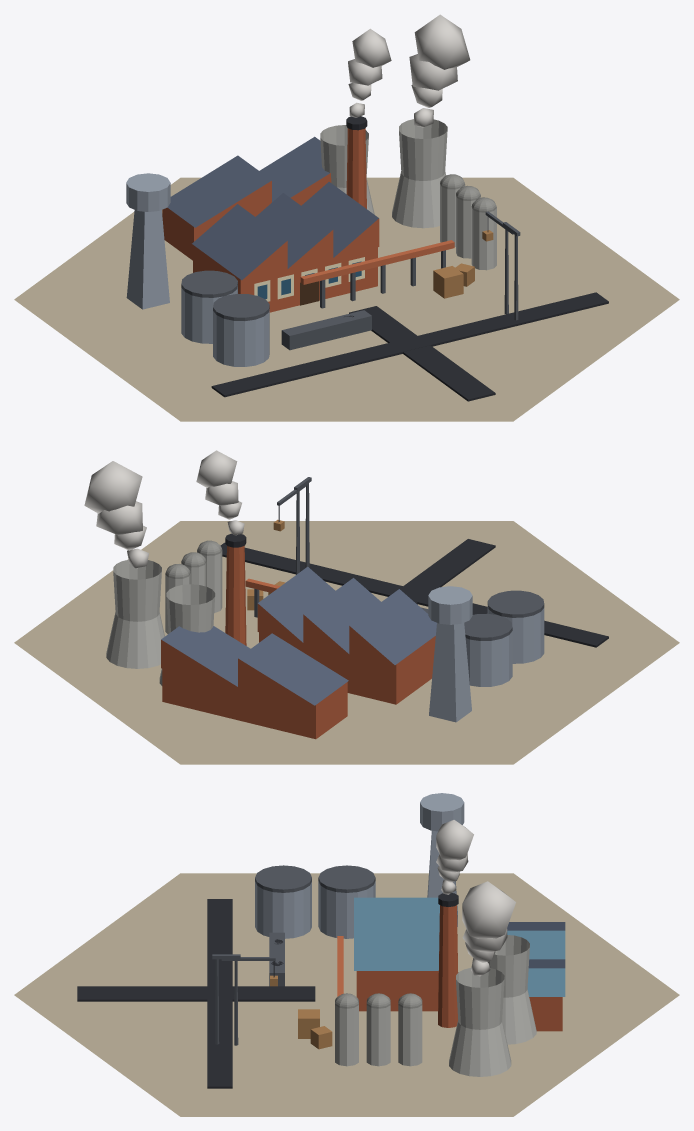
Rendered from district_industrial_zone_3.fbx.
3 views of the same model, one above another, from view 1: azimuth 30°, elevation 25°; view 2: azimuth 150°, elevation 25°; view 3: azimuth 270°, elevation 25° (orthographic).
Visible parts, largest first — view 1: district_industrial_zone_3; view 2: district_industrial_zone_3; view 3: district_industrial_zone_3.
Boxes of the visible parts, left/top/right/bottom form: district_industrial_zone_3: left=14, top=14, right=679, bottom=421; district_industrial_zone_3: left=14, top=450, right=679, bottom=764; district_industrial_zone_3: left=14, top=793, right=679, bottom=1116.
Bounding box in the file's own units: 182 × 74.11 × 210.
